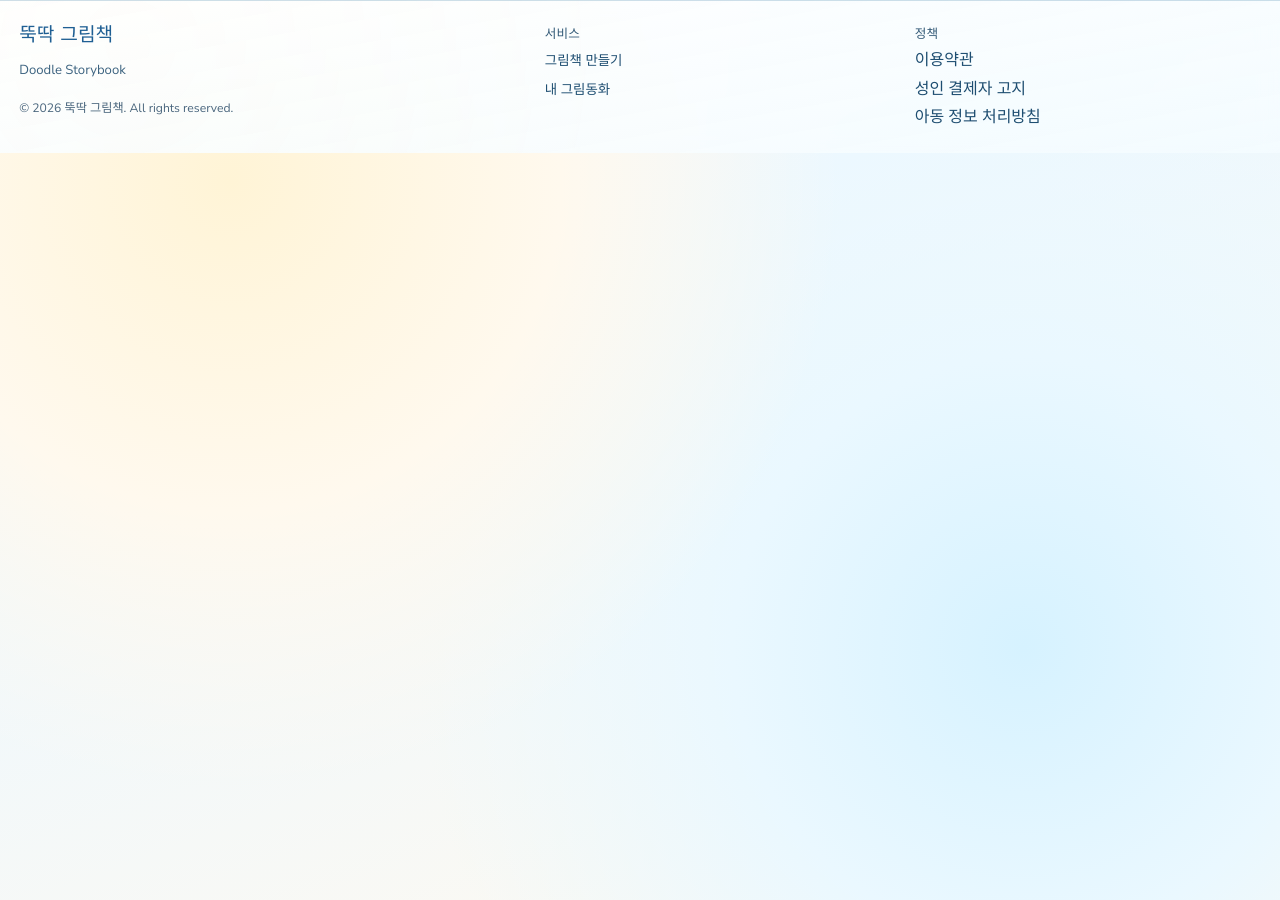
Test: AppFooter › 푸터 이용약관 클릭 시 문서를 모달로 열고 마크다운 렌더링한다
The width and height of the screenshot is (1280, 900).
Click the button "이용약관": click(944, 61) 915,49 -> 974,73
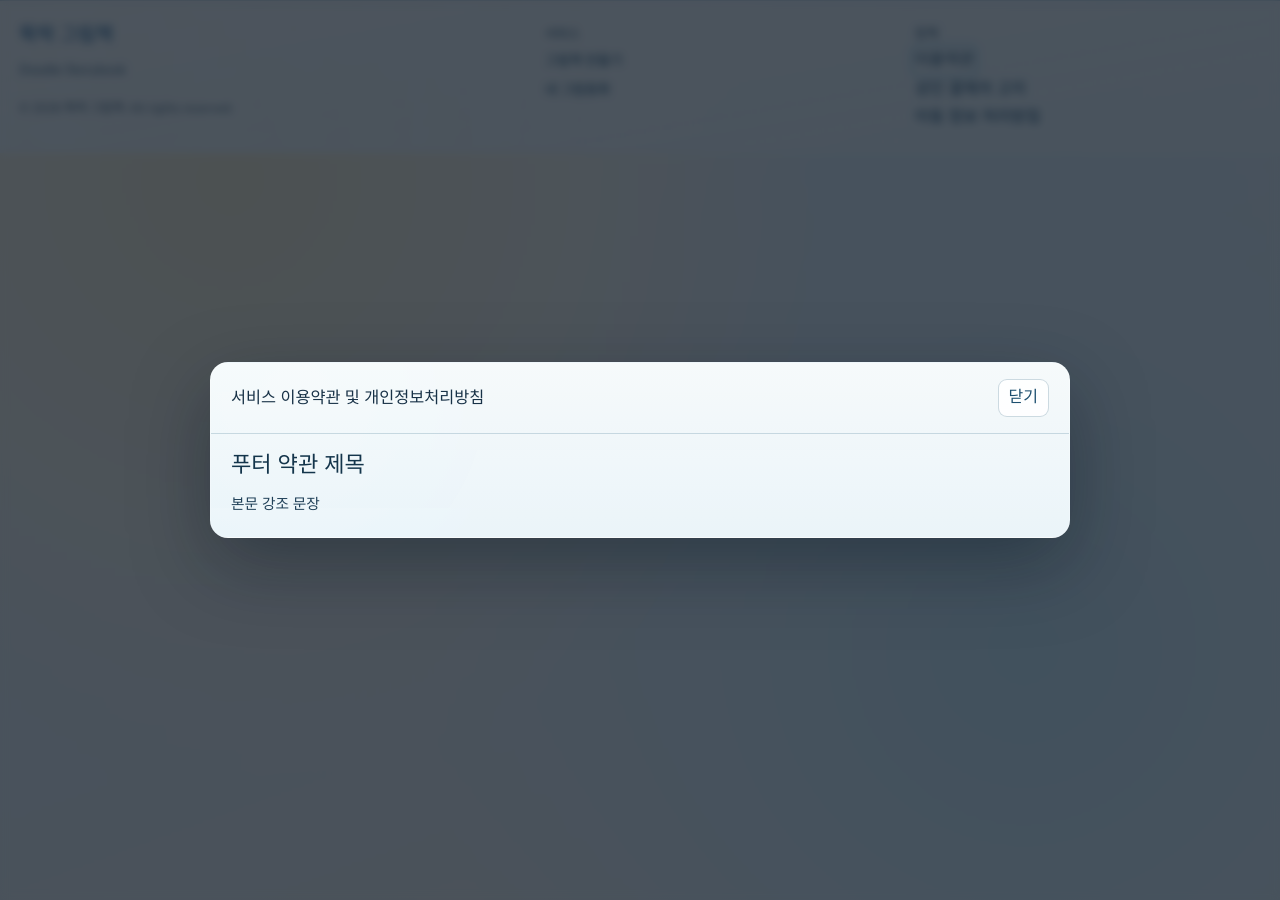
Now the dialog is shown, box 210,362 -> 1070,538
Now the heading "푸터 약관 제목" is shown, box 231,450 -> 365,480
Click the button "닫기": click(1023, 398) 998,379 -> 1049,417
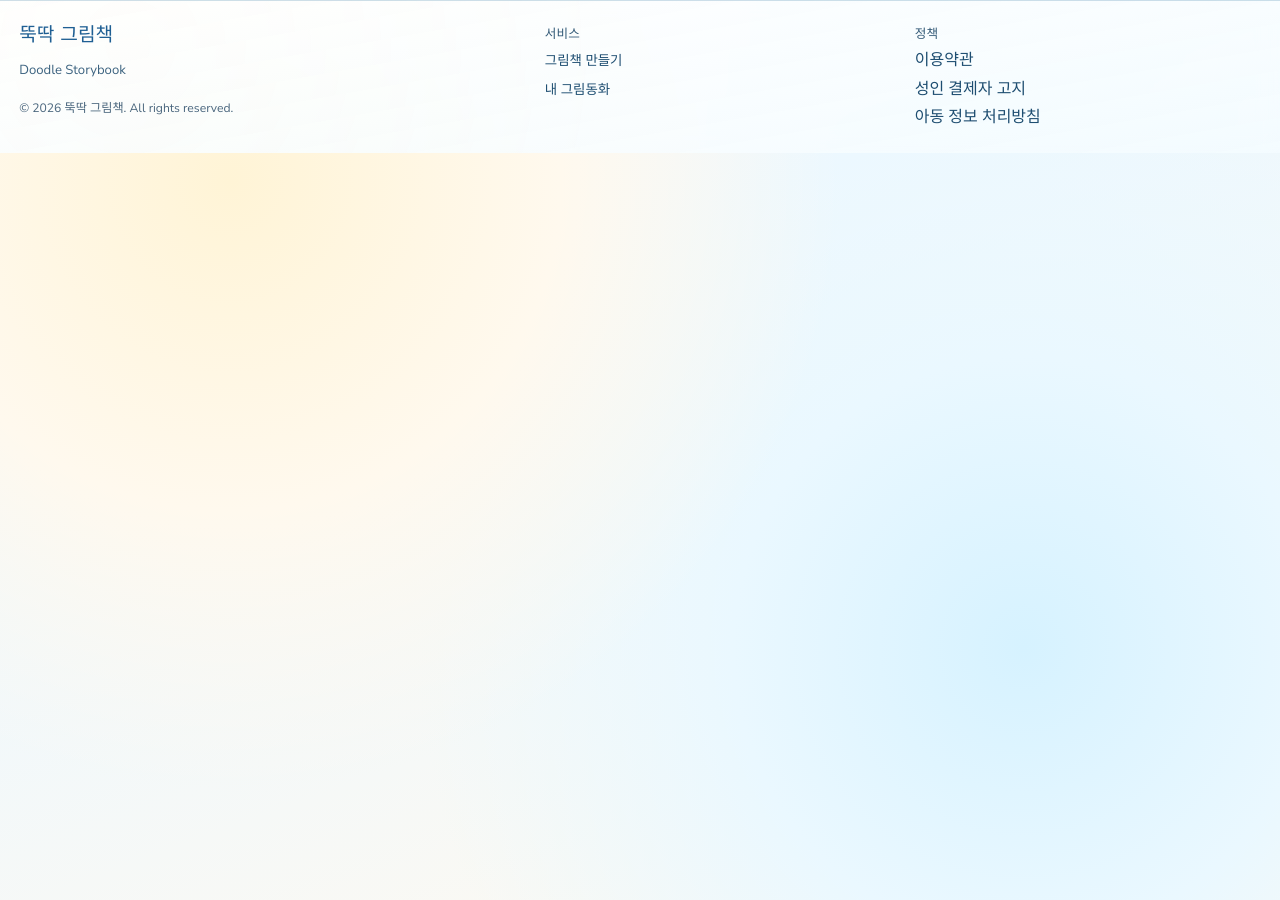
Now the dialog is gone
